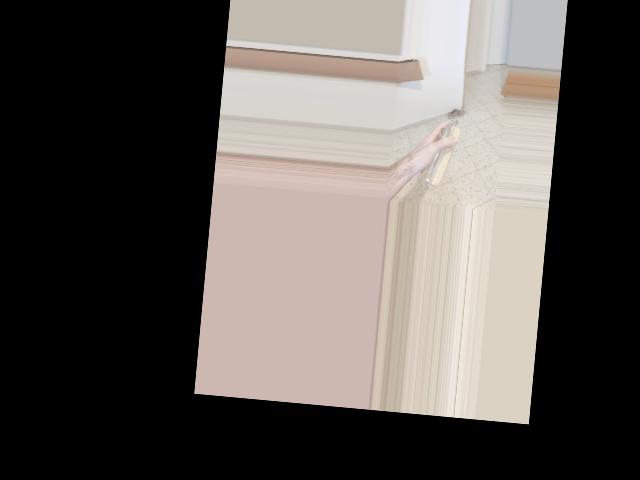cheese: (407, 112, 469, 182)
